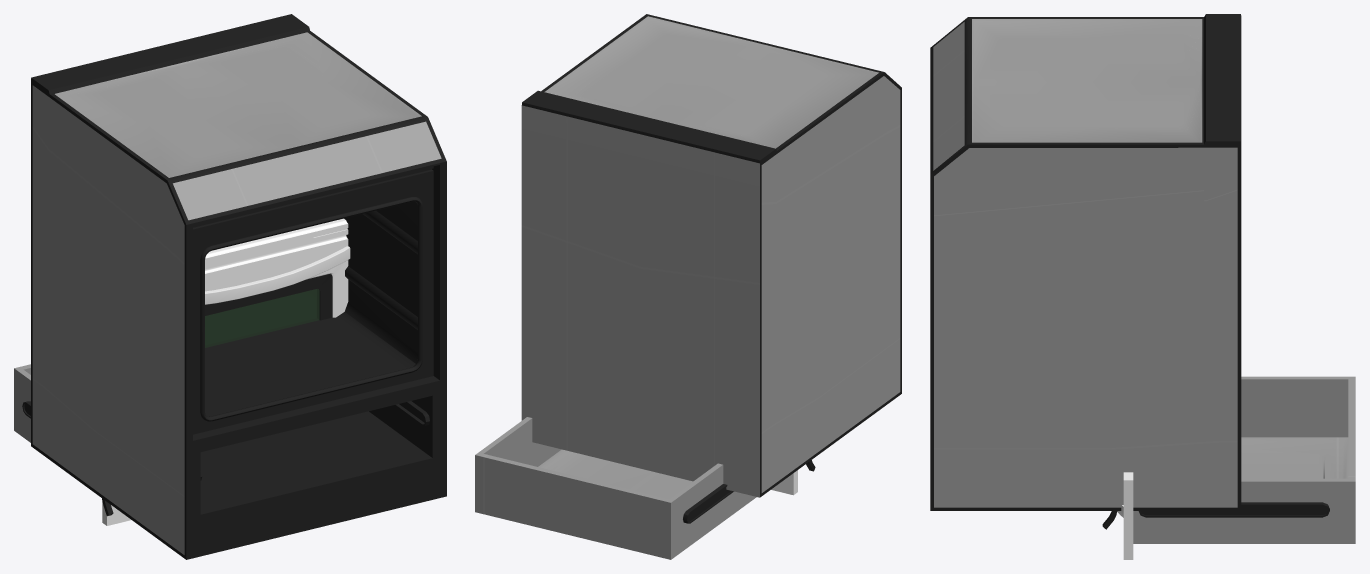
File: oven_FP7.obj
3 renders of one model, left to right at view 1: azimuth 30°, elevation 25°; view 2: azimuth 150°, elevation 25°; view 3: azimuth 270°, elevation 25°, orthographic. The views are drawn at different scales.
Parts seen in each view (by area): view 1: oven_FP7_d355b9ae, oven_FP7_door_de4b5223, oven_FP7_drawer_d1c2f133; view 2: oven_FP7_d355b9ae, oven_FP7_drawer_d1c2f133; view 3: oven_FP7_d355b9ae, oven_FP7_drawer_d1c2f133.
Boxes of the visible parts, x1,y1,x2,y2 form: oven_FP7_d355b9ae: (31, 14, 446, 559); oven_FP7_door_de4b5223: (102, 218, 350, 516); oven_FP7_drawer_d1c2f133: (14, 364, 131, 525); oven_FP7_d355b9ae: (521, 14, 901, 497); oven_FP7_drawer_d1c2f133: (475, 417, 797, 559); oven_FP7_d355b9ae: (930, 14, 1241, 510); oven_FP7_drawer_d1c2f133: (1117, 376, 1355, 559).
Bounding box in the file's own units: 0.7523 × 1.06 × 0.9997.
